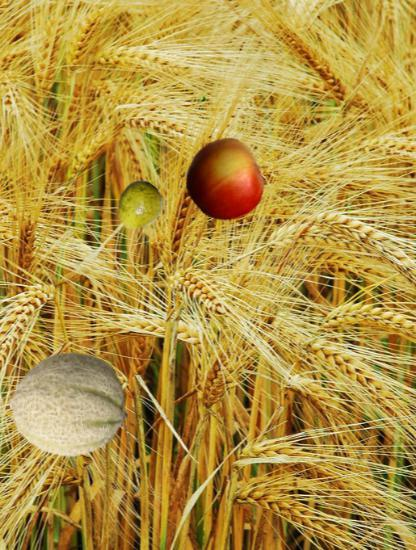Apple: (185, 136, 270, 221)
Cantaloupe: (10, 345, 128, 463)
Guava: (114, 181, 165, 232)
